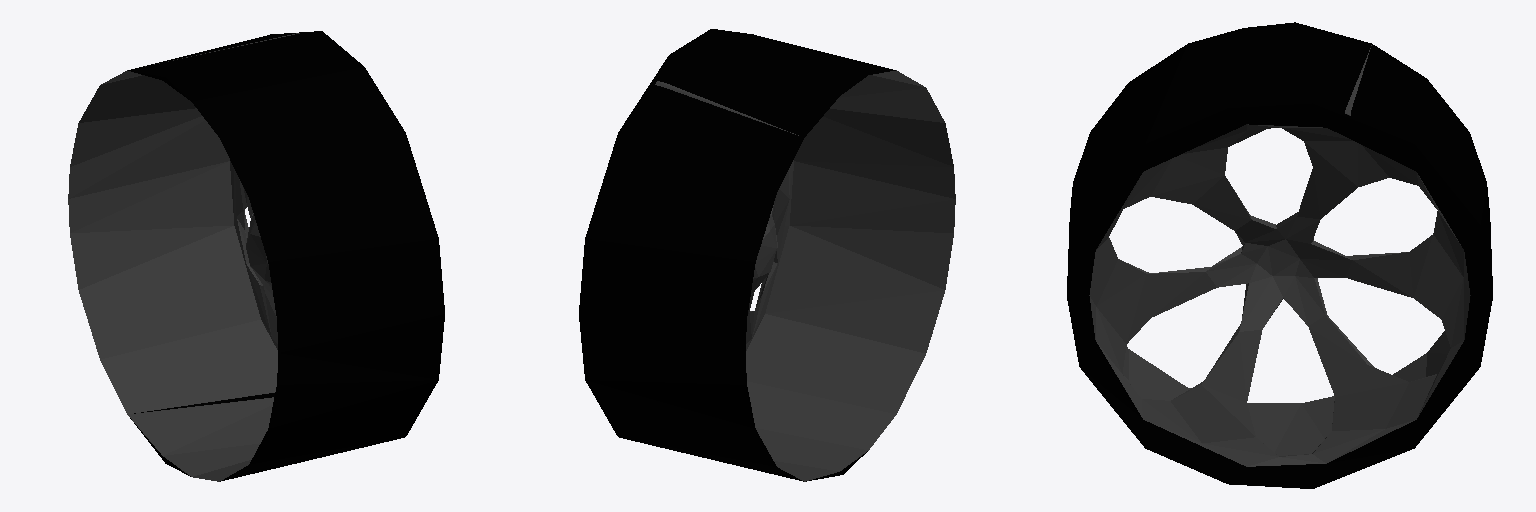
Rendered from vision_gt_front_wheel.obj.
3 views of the same model, side by side, from view 1: azimuth 30°, elevation 25°; view 2: azimuth 150°, elevation 25°; view 3: azimuth 270°, elevation 25° (orthographic).
Visible parts, largest first — view 1: Circle.002; view 2: Circle.002; view 3: Circle.002.
Boxes of the visible parts, <box> form: Circle.002: <box>68,31,444,481</box>; Circle.002: <box>579,29,955,481</box>; Circle.002: <box>1067,22,1492,488</box>.
Bounding box in the file's own units: 0.2642 × 0.5904 × 0.5904.